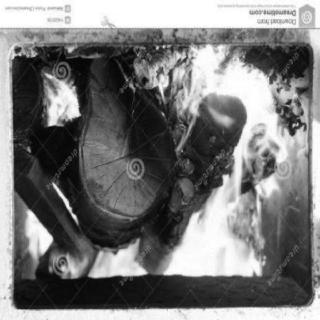Fire: (19, 46, 302, 284)
